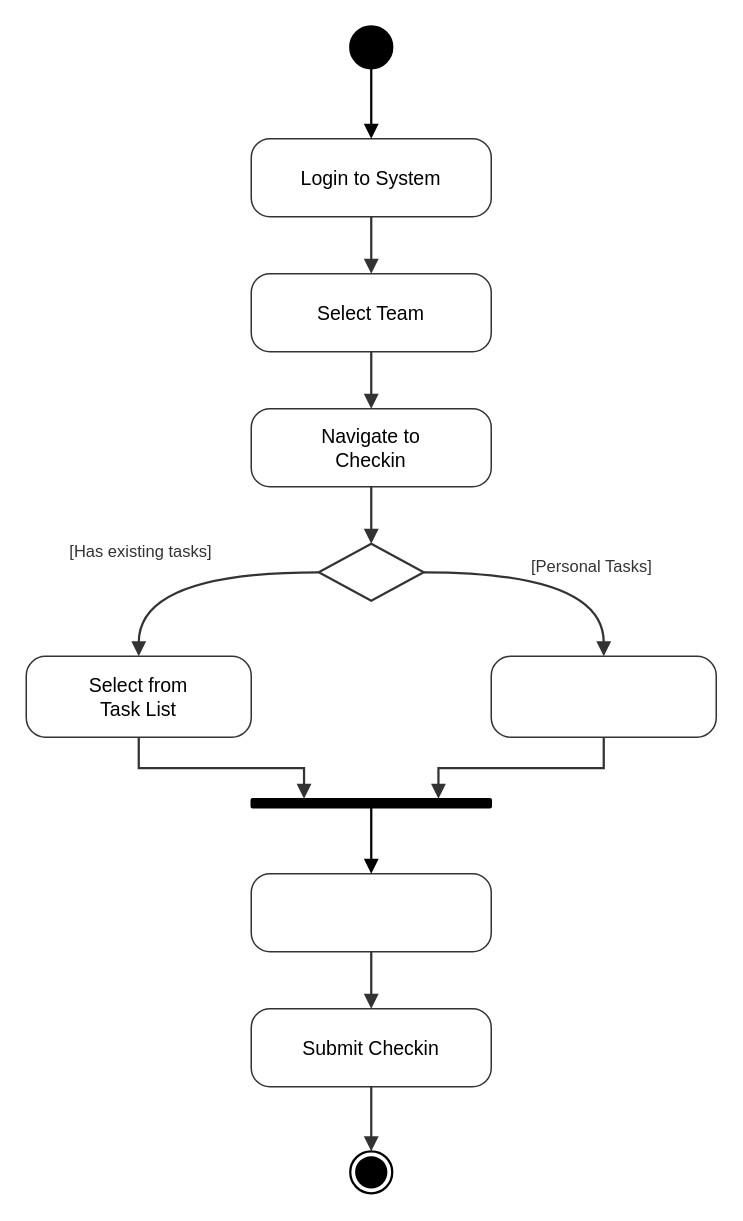
The diagram is 743 pixels wide and 1221 high, and some of its shapes have lost their labels. The shapes that lost their labels are listed below. From the top down, each one's box as (x1, y1, x2, y2) in pixels, then its label:
(490, 655, 716, 737): Add Personal Tasks
(250, 872, 491, 952): Review Task List
